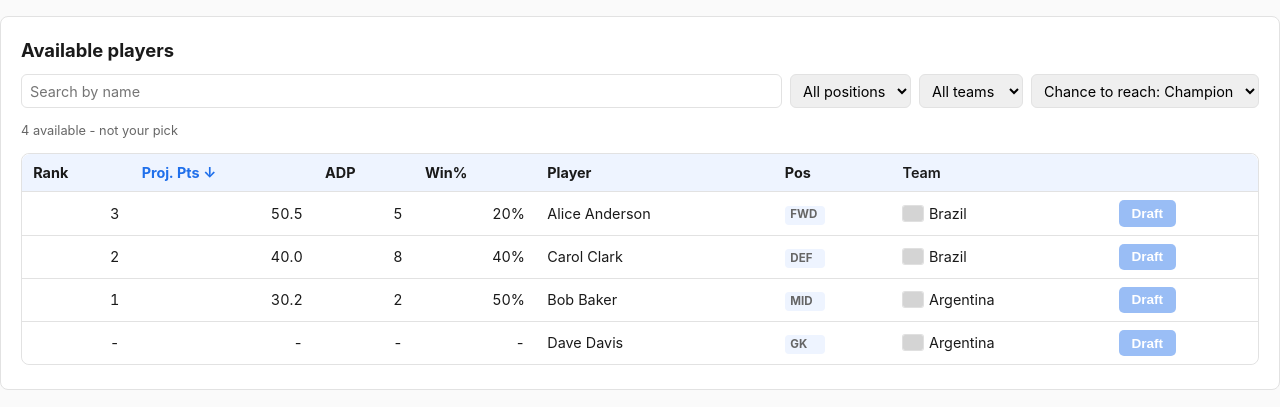
Test: PlayerBoard filtering › shows an empty-state when nothing matches
In the field with placeholder "Search by name": [402, 91] box [21,74,782,108], type "zzzz"
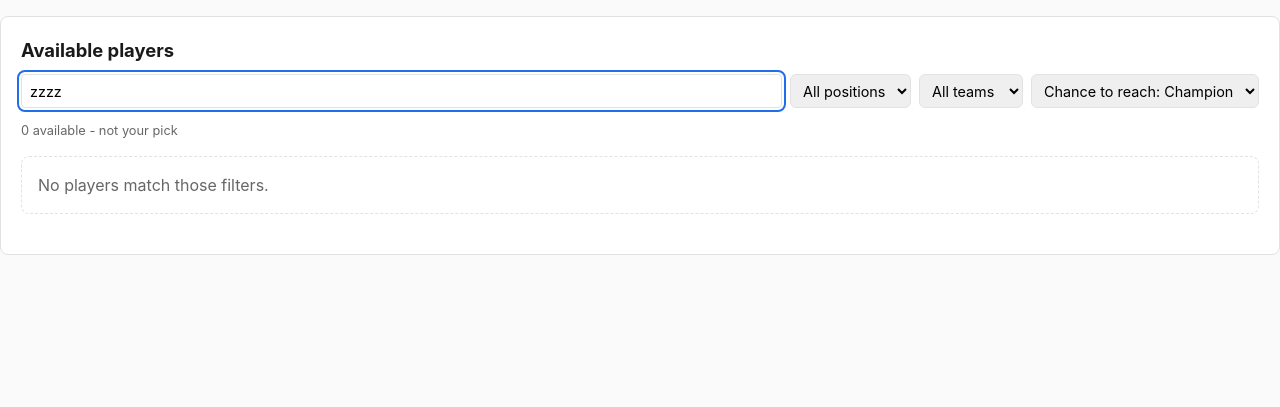
Expected: the text "No players match those filters." is shown, [21,156,1259,214]
